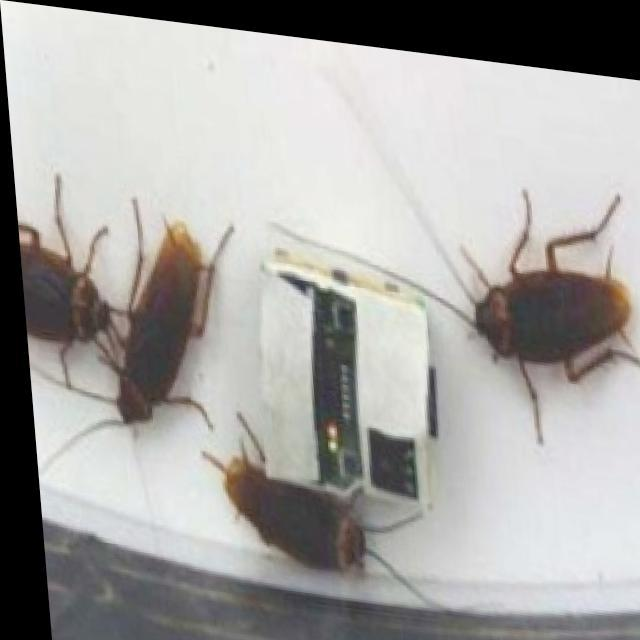cockroach: (77, 172, 243, 478), (195, 415, 405, 594), (454, 216, 640, 392), (1, 219, 118, 393)
